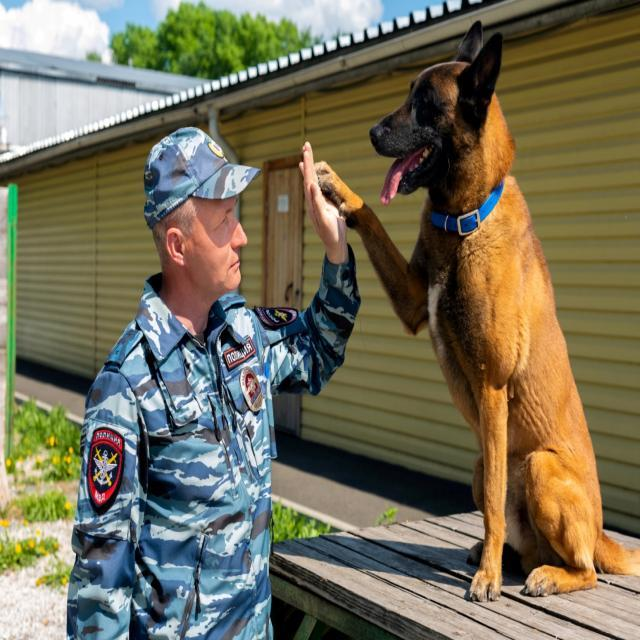Dogs: (320, 23, 640, 604)
